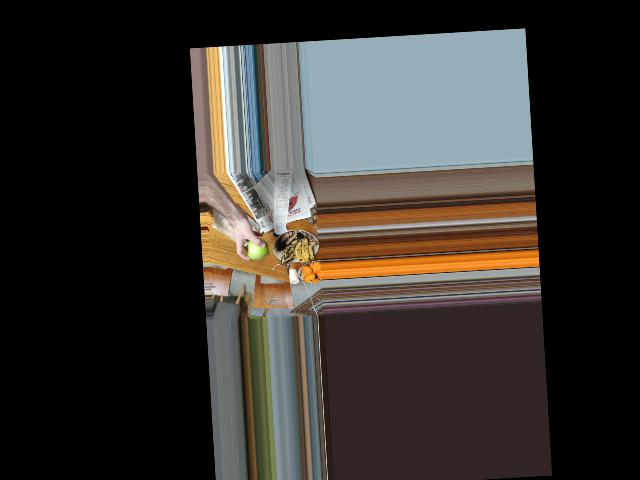apple: (246, 234, 268, 261)
